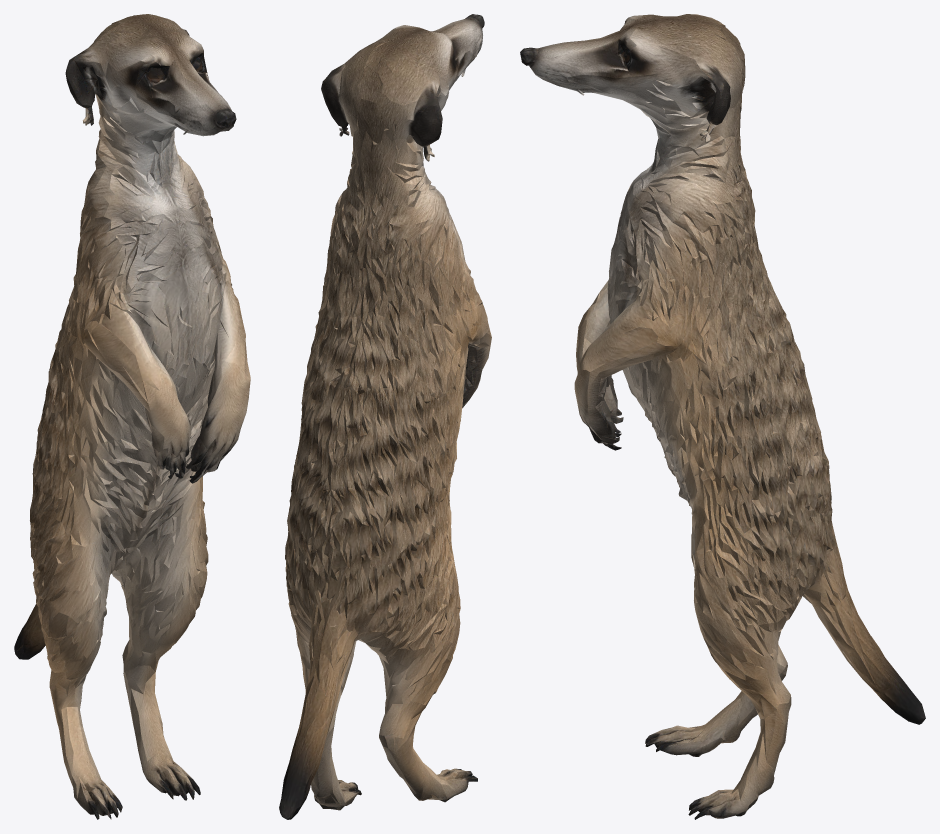
File: meerkat.glb
3 views of the same model, side by side, from view 1: azimuth 30°, elevation 25°; view 2: azimuth 150°, elevation 25°; view 3: azimuth 270°, elevation 25° (orthographic). The views are drawn at different scales.
Size of the model in its own units: 0.4127 by 1.9 by 0.9053.
Materials: 1 (1 with a texture image).
